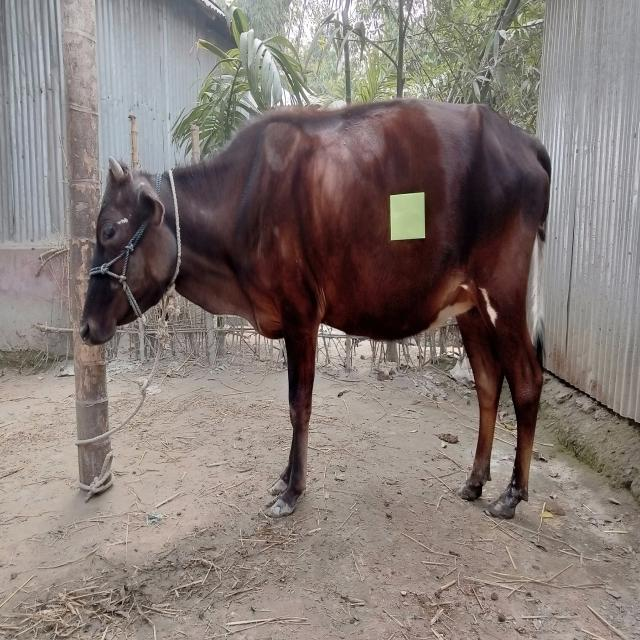badan_sapi: (263, 109, 547, 344)
sapi: (76, 85, 557, 532)
